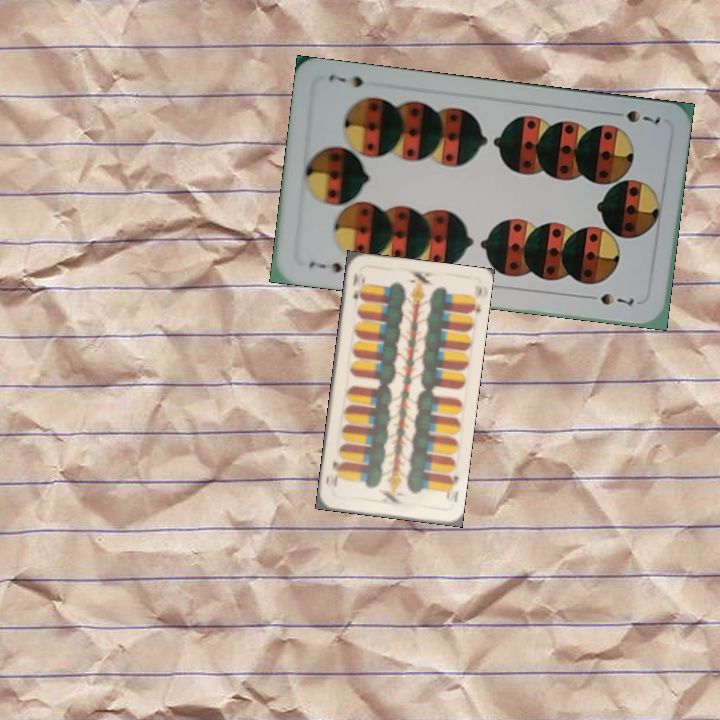E10: (349, 269, 367, 304), (442, 471, 461, 502)
S7: (607, 106, 663, 130), (304, 257, 347, 276)
